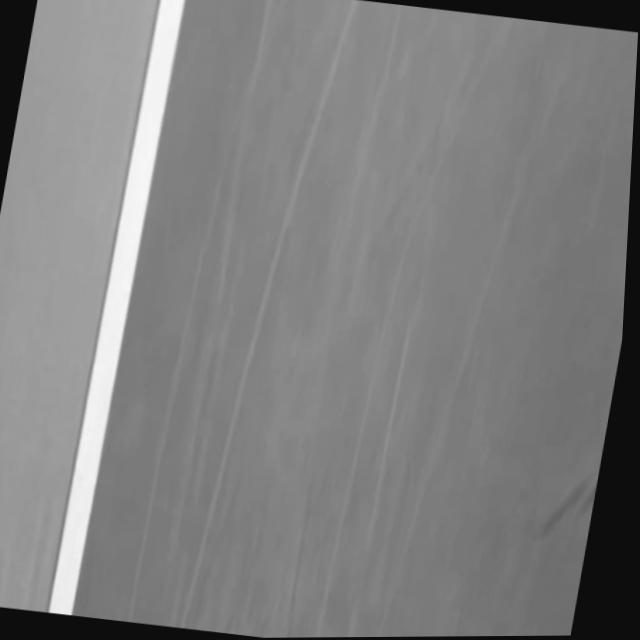right: (48, 0, 185, 615)
